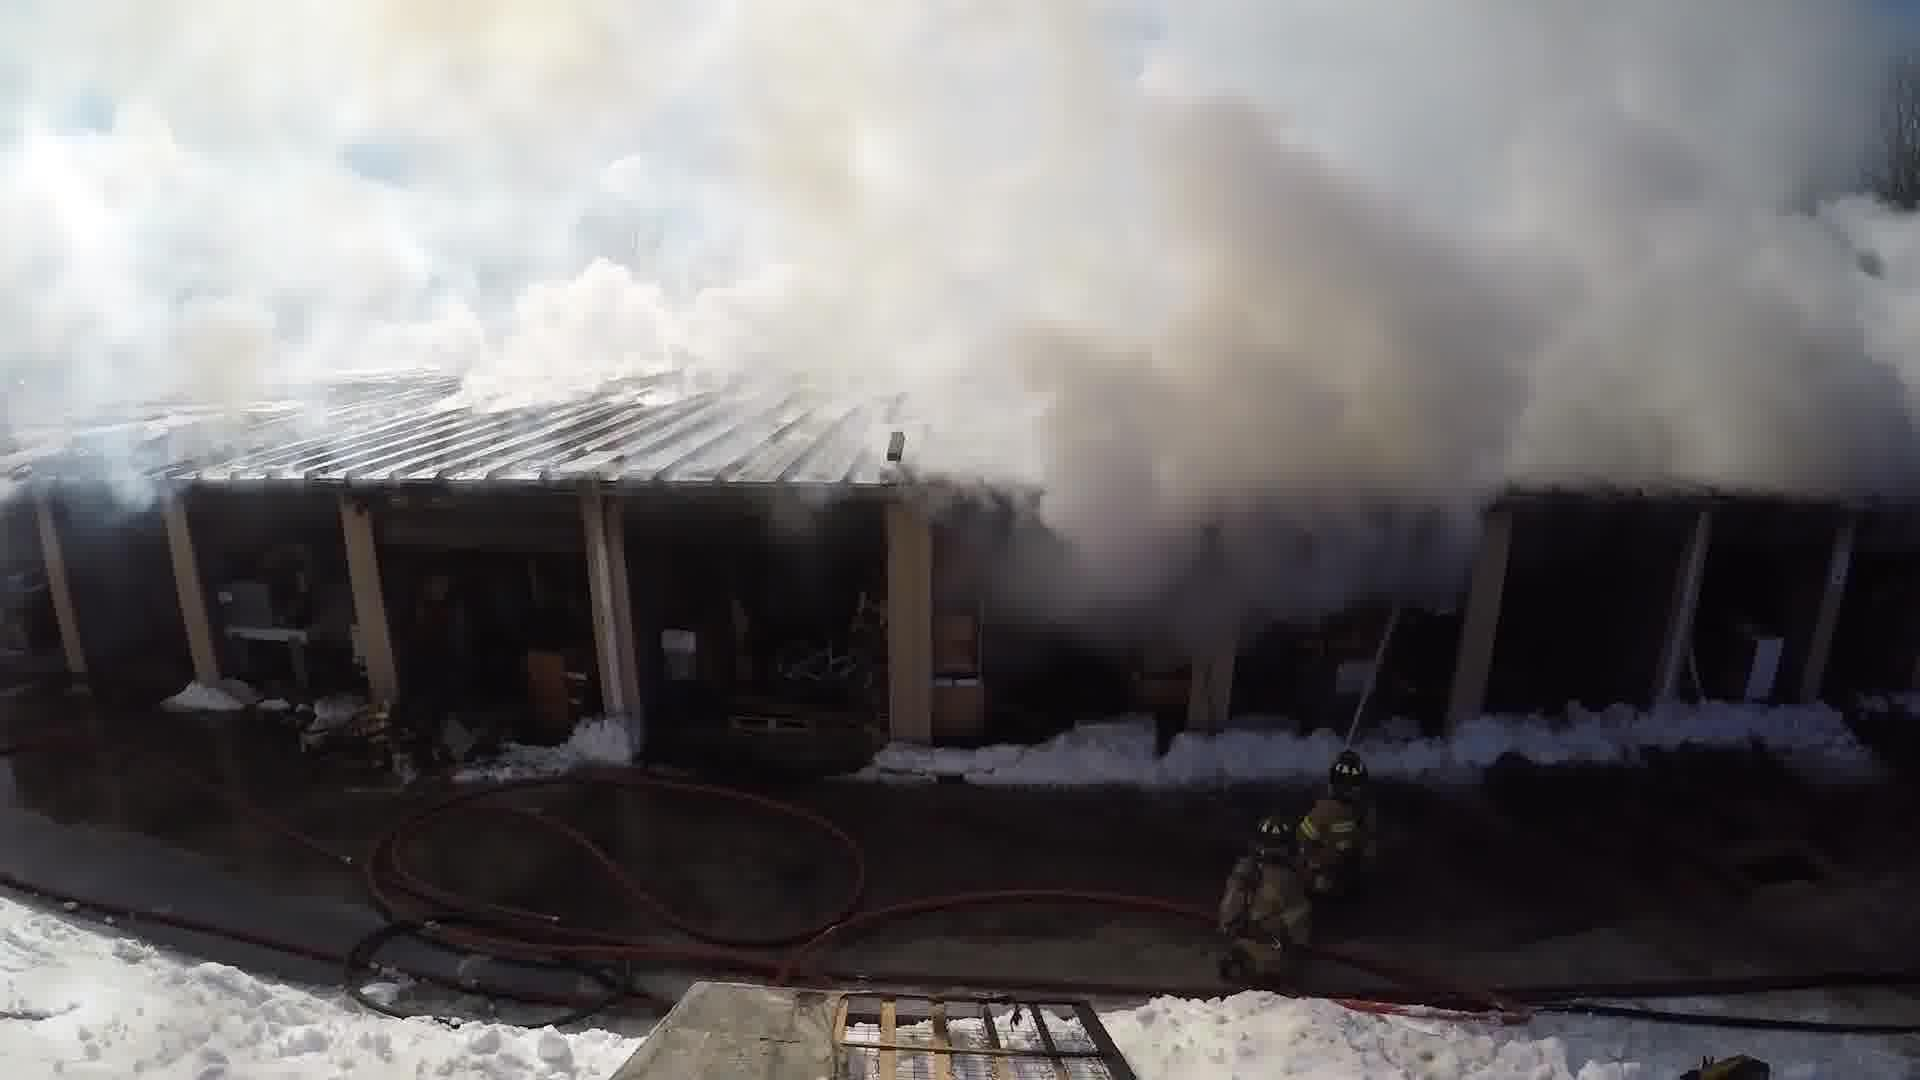smoke: (2, 2, 1920, 436)
